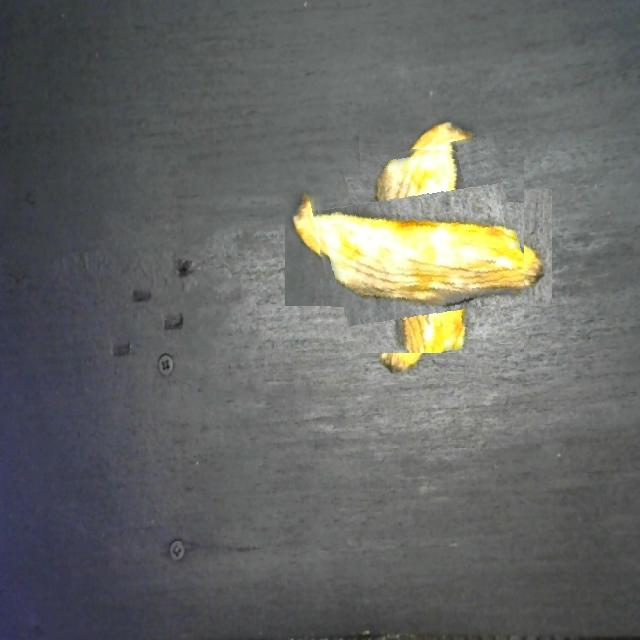biodegradable: (313, 142, 524, 353)
